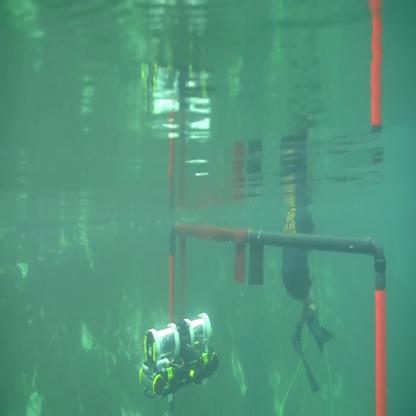gate: (164, 209, 392, 416)
